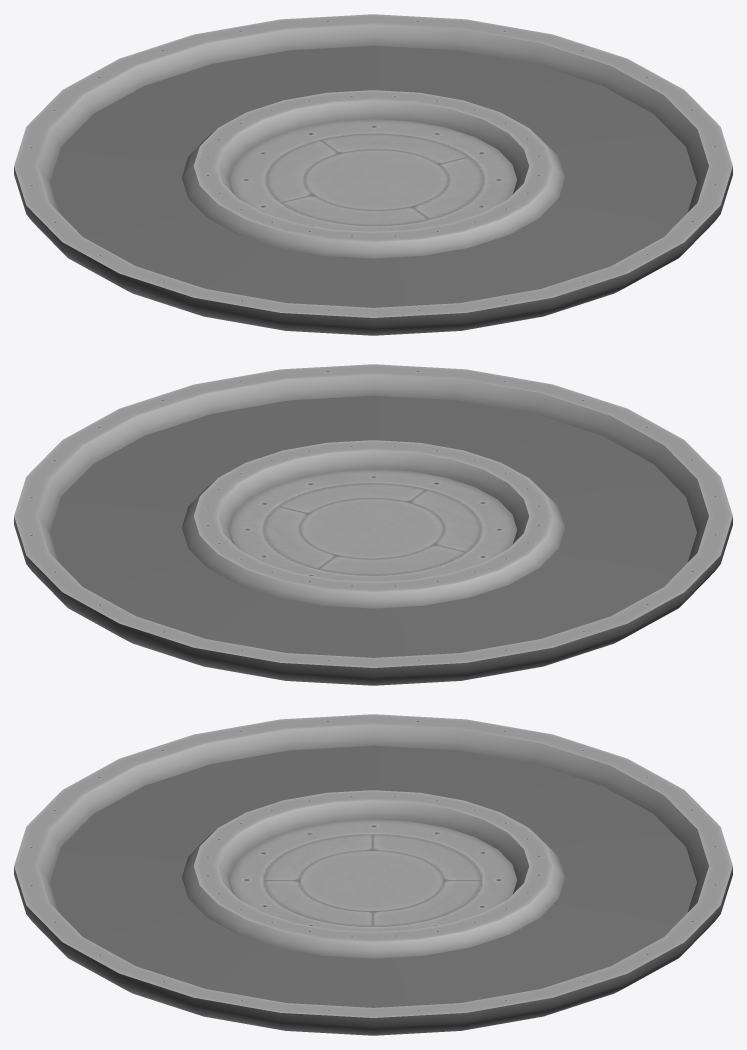
Rendered from Alnair_Heatshield_1.obj.
The picture shows the model from 3 angles, top to bottom: view 1: azimuth 30°, elevation 25°; view 2: azimuth 150°, elevation 25°; view 3: azimuth 270°, elevation 25°; orthographic projection.
Visible parts, largest first — view 1: Alnair_Heatshield_1; view 2: Alnair_Heatshield_1; view 3: Alnair_Heatshield_1.
Part boxes in pixels (<box>): Alnair_Heatshield_1: <box>14,14,732,335</box>; Alnair_Heatshield_1: <box>14,364,732,685</box>; Alnair_Heatshield_1: <box>14,714,732,1035</box>.
Bounding box in the file's own units: 1.88 × 0.2275 × 1.88.
